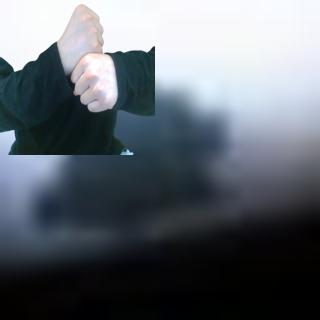CAREFUL: (57, 1, 120, 121)
